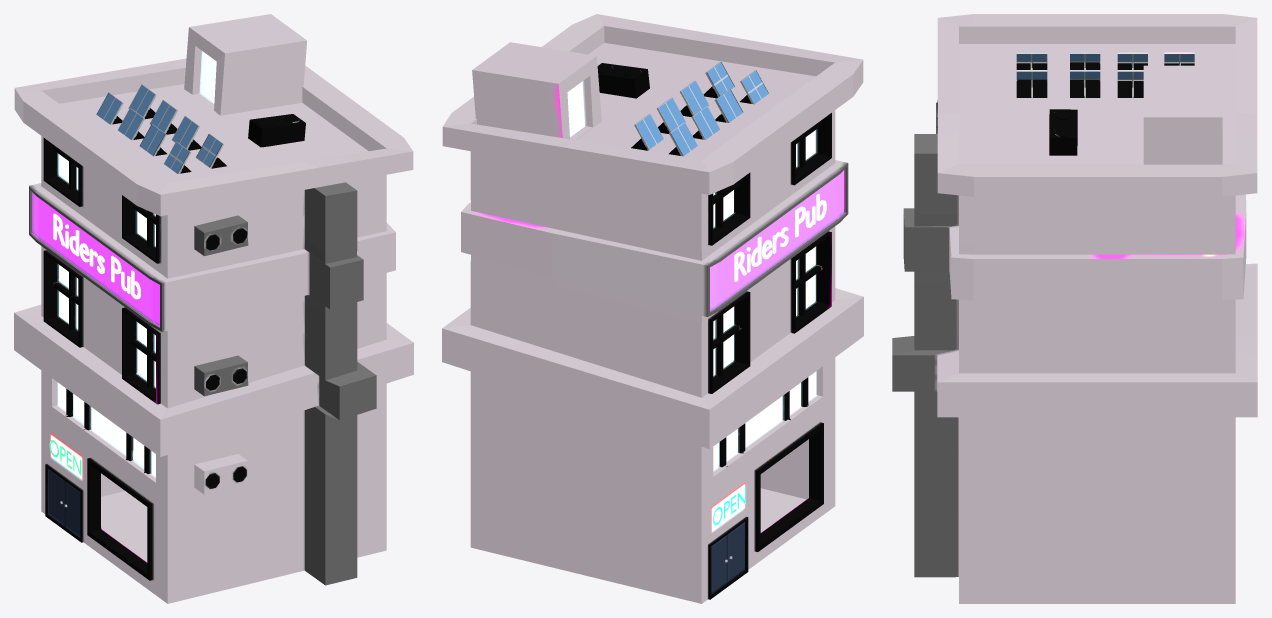
Rendered from Building 4.fbx.
The picture shows the model from 3 angles, left to right: view 1: azimuth 30°, elevation 25°; view 2: azimuth 150°, elevation 25°; view 3: azimuth 270°, elevation 25°; orthographic projection. The views are drawn at different scales.
Parts seen in each view (by area): view 1: Cube.020; view 2: Cube.020; view 3: Cube.020.
Boxes of the visible parts, x1,y1,x2,y2 form: Cube.020: (14, 14, 413, 603); Cube.020: (442, 14, 863, 603); Cube.020: (892, 14, 1257, 603).
Bounding box in the file's own units: 1219 × 1982 × 1320.
